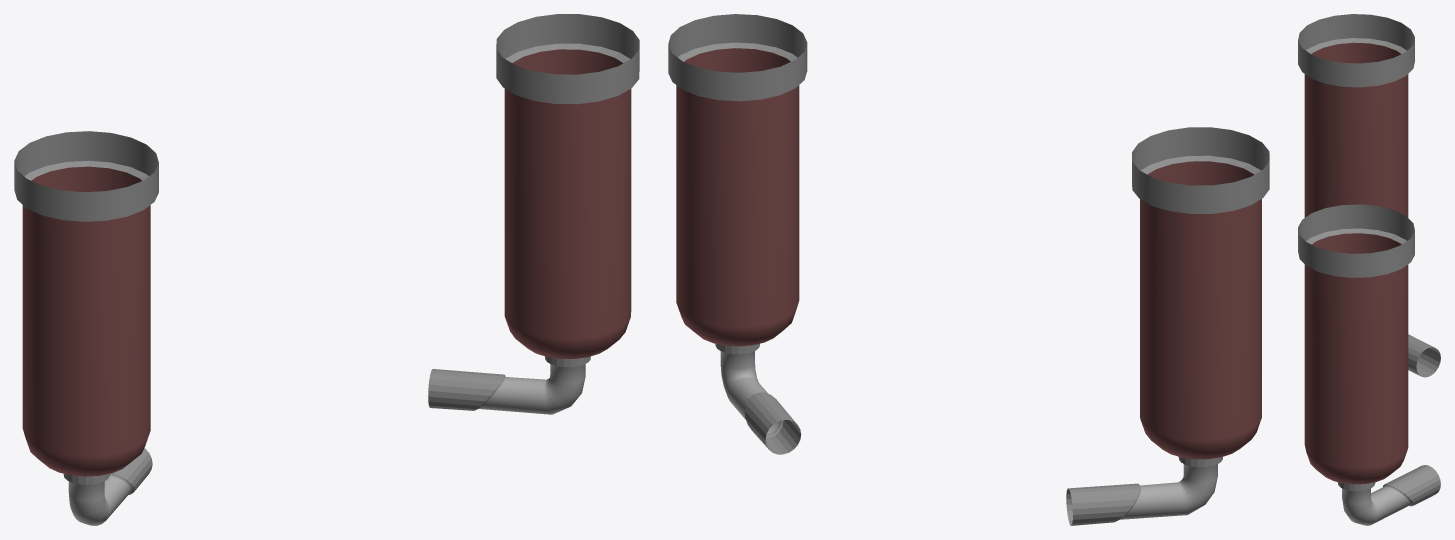
File: Canisters.fbx
3 renders of one model, left to right at view 1: azimuth 30°, elevation 25°; view 2: azimuth 150°, elevation 25°; view 3: azimuth 270°, elevation 25°, orthographic. The views are drawn at different scales.
Parts seen in each view (by area): view 1: Canisters; view 2: Canisters; view 3: Canisters.
Part boxes in pixels (<box>): Canisters: <box>14,14,639,525</box>; Canisters: <box>668,14,1269,525</box>; Canisters: <box>1298,14,1440,525</box>.
Bounding box in the file's own units: 7.71 × 4.52 × 1.94.
